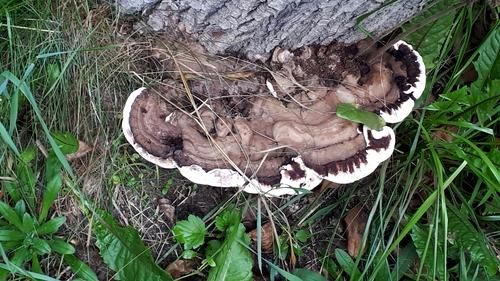Ganoderma - Fruit Body: (119, 38, 426, 196)
